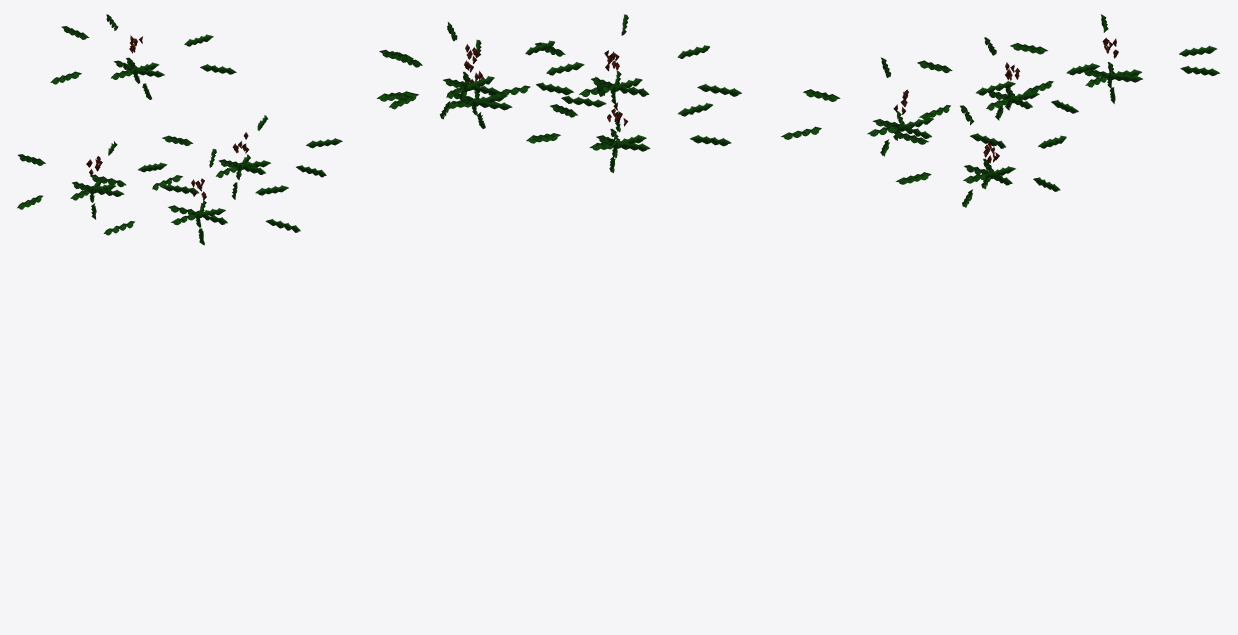
The model's file is Shrub_Sumac.glb.
The picture shows the model from 3 angles, left to right: view 1: azimuth 30°, elevation 25°; view 2: azimuth 150°, elevation 25°; view 3: azimuth 270°, elevation 25°; orthographic projection. The views are drawn at different scales.
Parts seen in each view (by area): view 1: Shrub_Sumac; view 2: Shrub_Sumac; view 3: Shrub_Sumac.
Part boxes in pixels (left/top/right/bottom): Shrub_Sumac: left=17, top=14, right=342, bottom=245; Shrub_Sumac: left=376, top=14, right=741, bottom=173; Shrub_Sumac: left=781, top=14, right=1219, bottom=207.
Bounding box in the file's own units: 2.53 × 4.11 × 2.84.
1 material, 1 textured.
